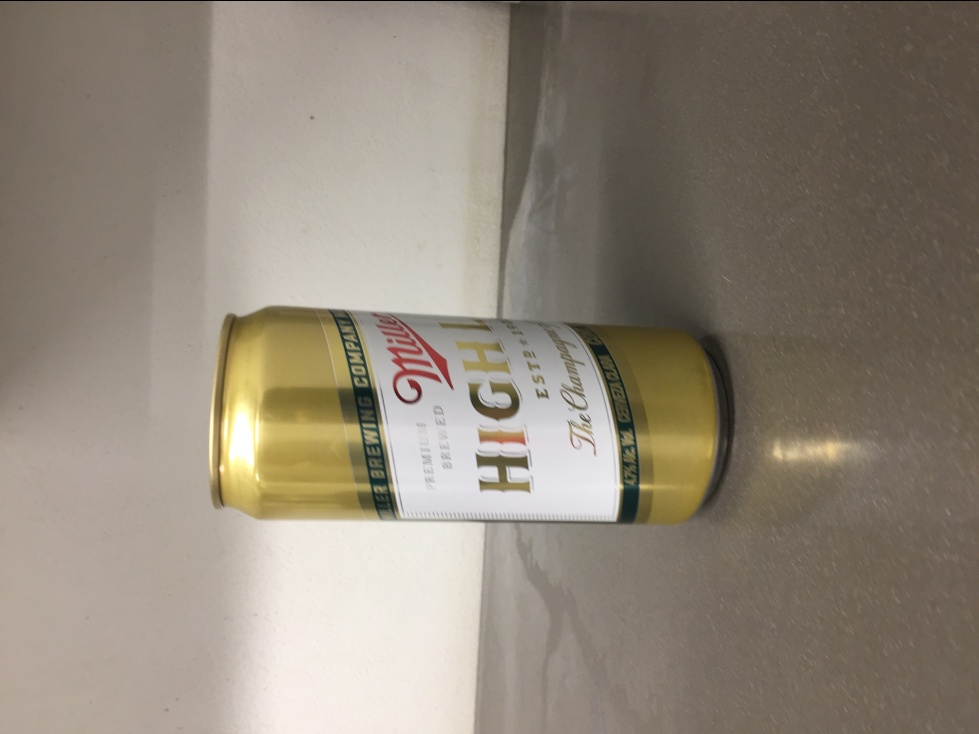miller: (206, 301, 730, 530)
